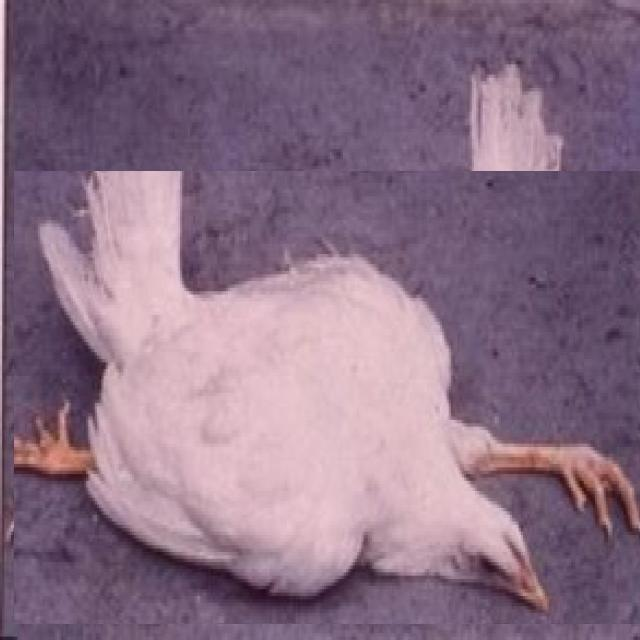AbNormal: (10, 247, 640, 609)
